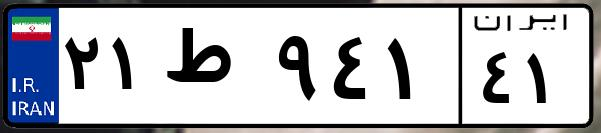1: (385, 28, 445, 110), (525, 38, 570, 115), (110, 28, 158, 98)
2: (57, 26, 110, 100)
4: (330, 28, 385, 110), (475, 38, 525, 113)
9: (270, 28, 330, 110)
ط: (158, 20, 270, 120)
